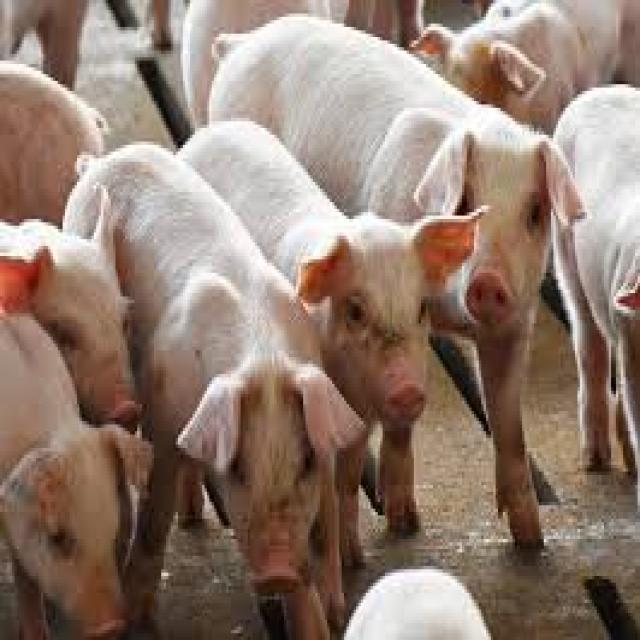Pig: (208, 1, 580, 559), (56, 118, 367, 612), (187, 96, 473, 547)
